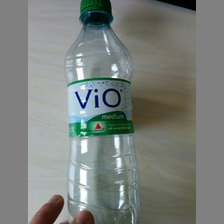water: (63, 1, 143, 224)
